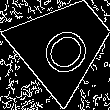O_NE: (32, 10, 97, 77)
